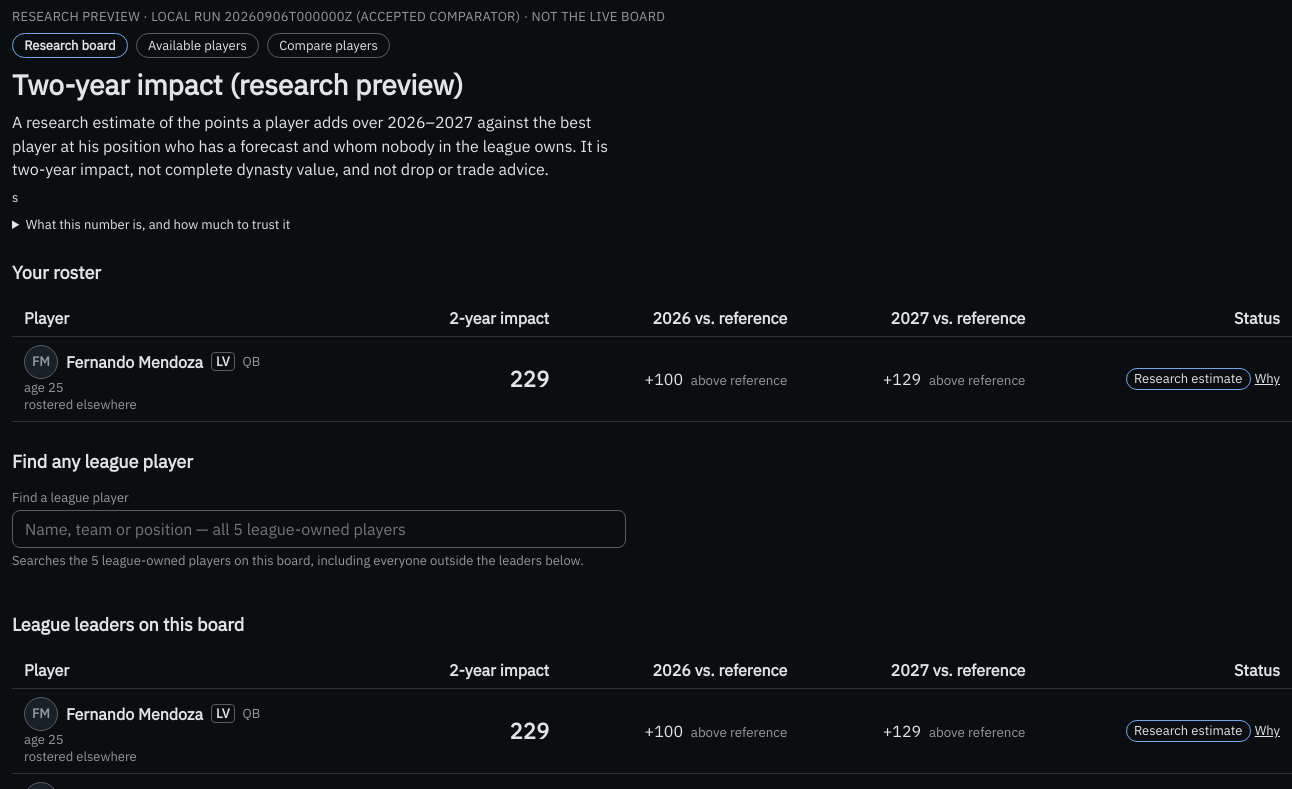
Test case: ResearchPreview — available players tab lifecycle › keeps a watched player across internal tab switches when storage cannot save
The image size is (1292, 789).
Click the tab "Available players": click(197, 46) [136, 33, 259, 58]
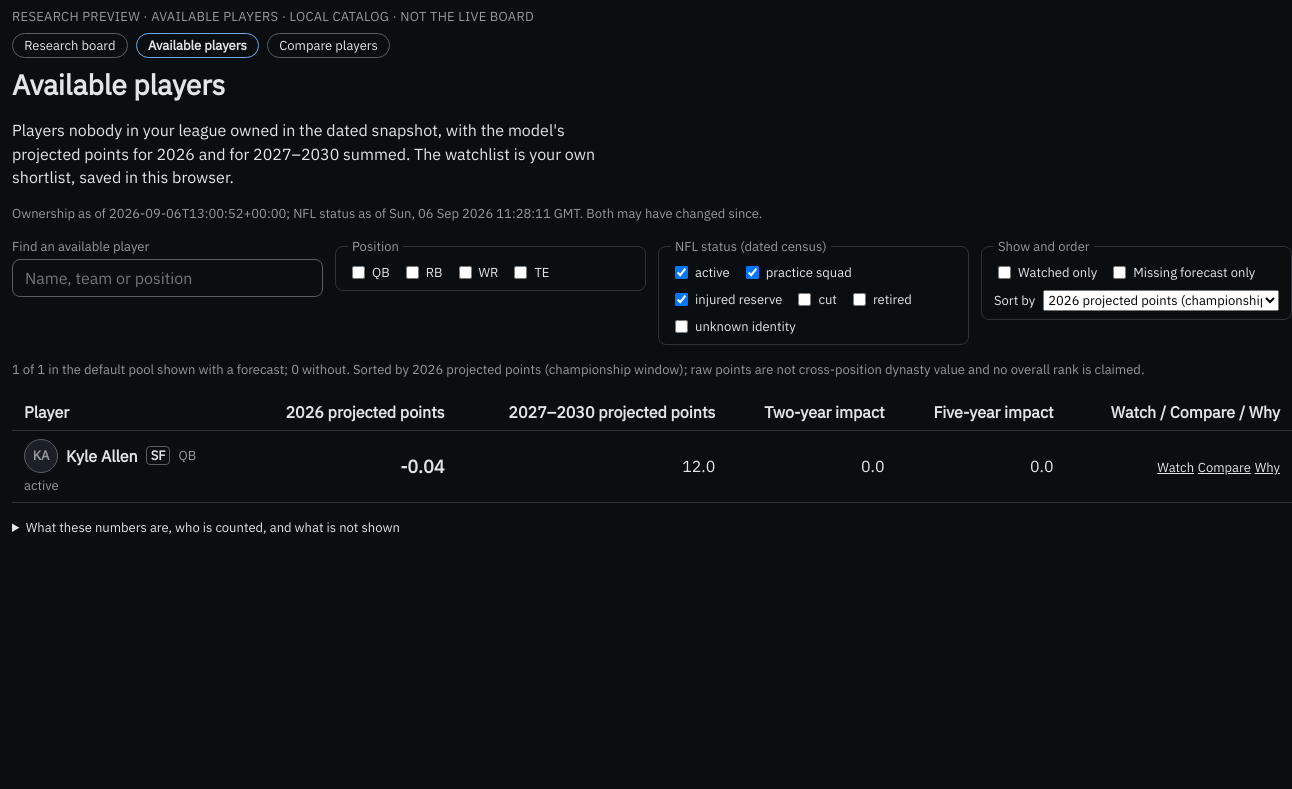
Click the button with aria-label "Watch Kyle Allen": click(1176, 468) [1157, 459, 1194, 476]
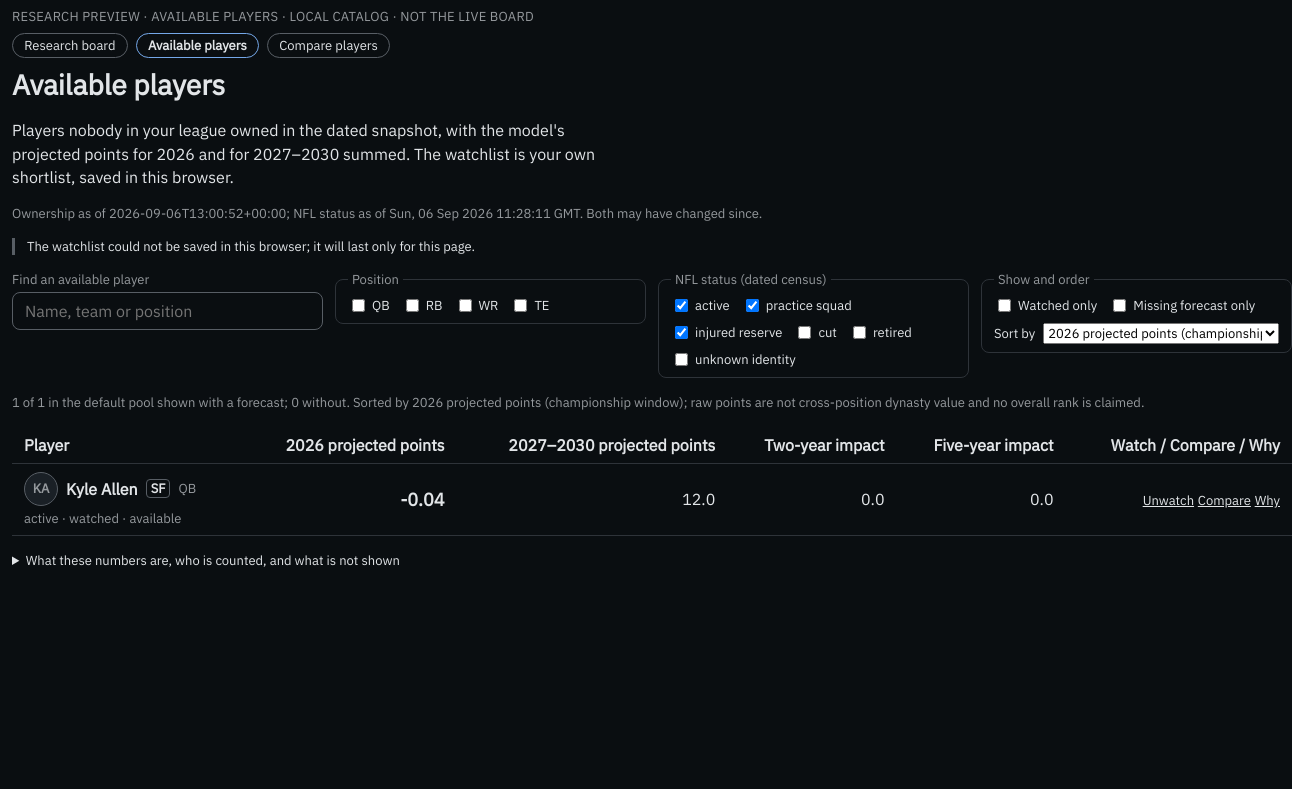
Now the button with aria-label "Unwatch Kyle Allen" is shown, box [1143, 492, 1194, 509]
Now the text "will last only for this page" is shown, box [27, 238, 475, 255]
Click the tab "Research board": click(70, 46) [12, 33, 128, 58]
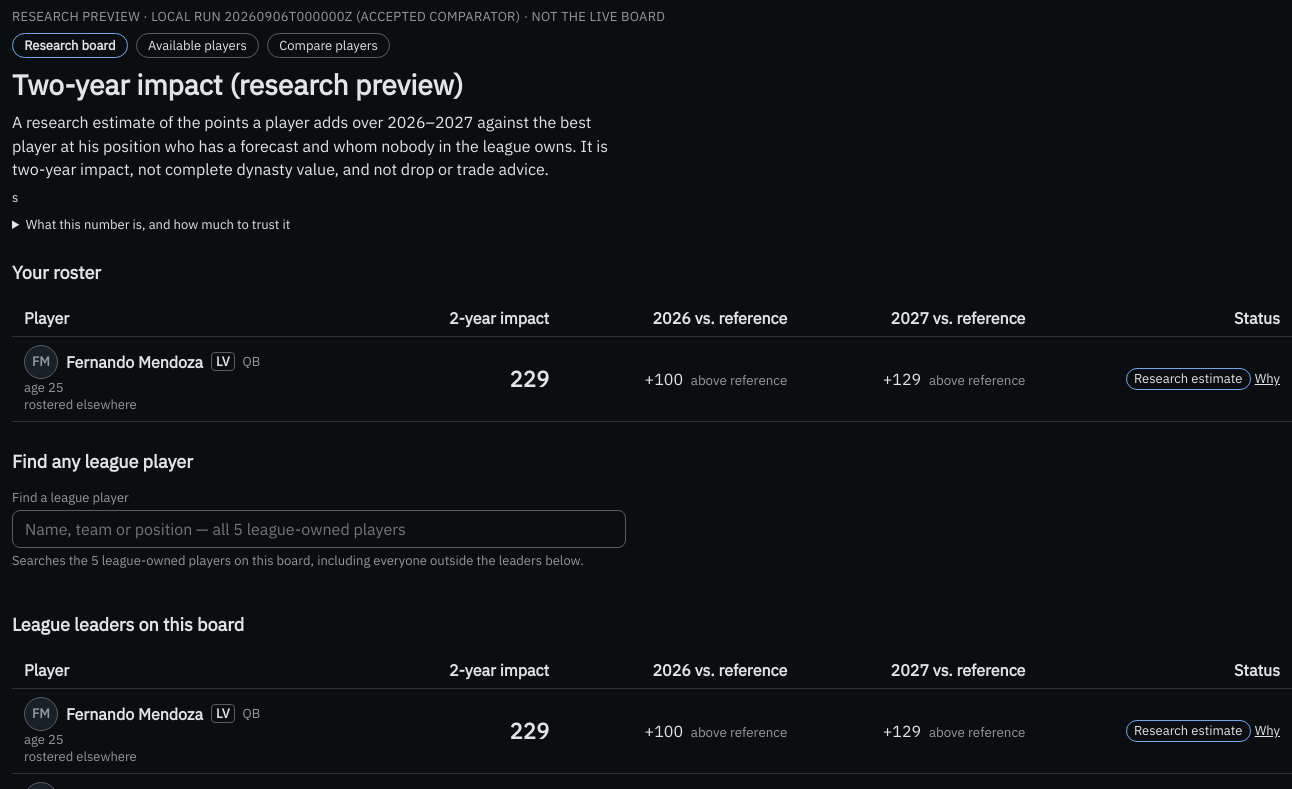
Click the tab "Available players": click(197, 46) [136, 33, 259, 58]
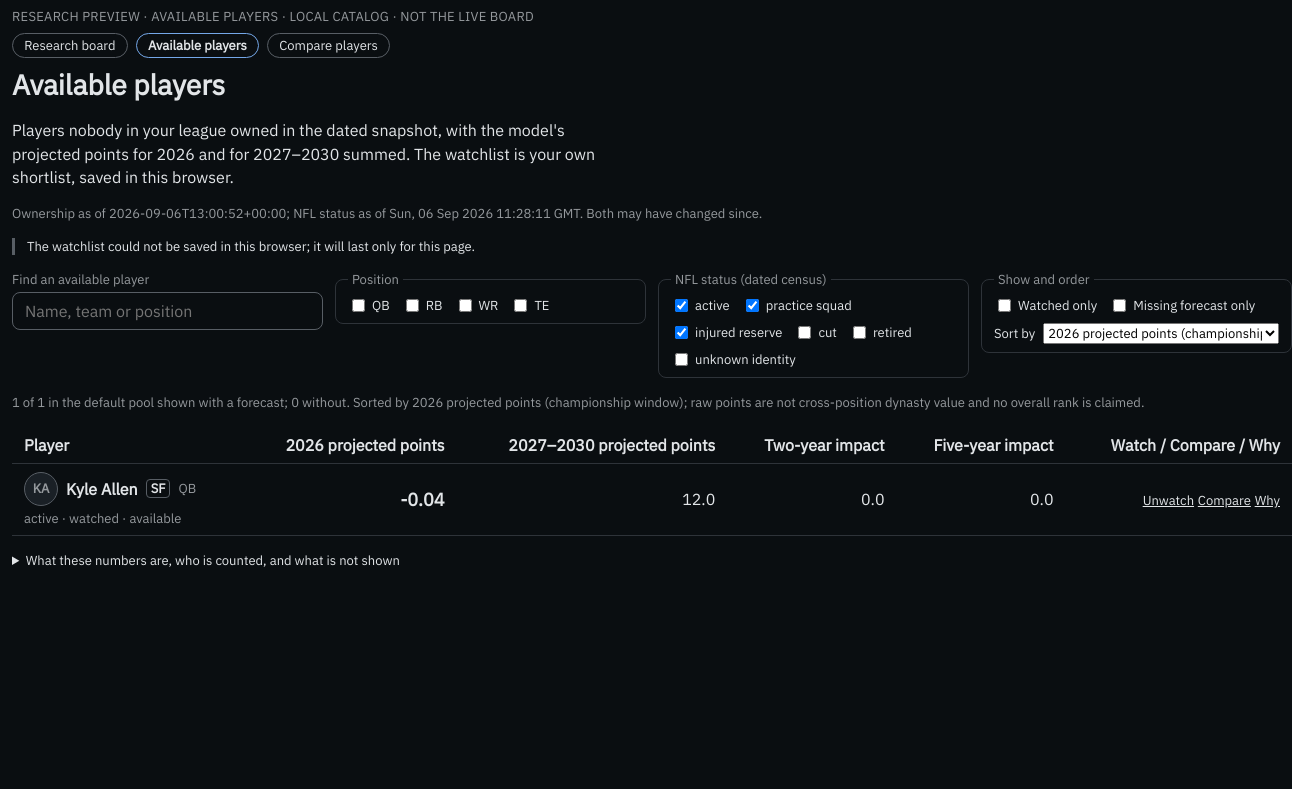
Now the button with aria-label "Unwatch Kyle Allen" is shown, box [1143, 492, 1194, 509]
Now the text "will last only for this page" is shown, box [27, 238, 475, 255]
